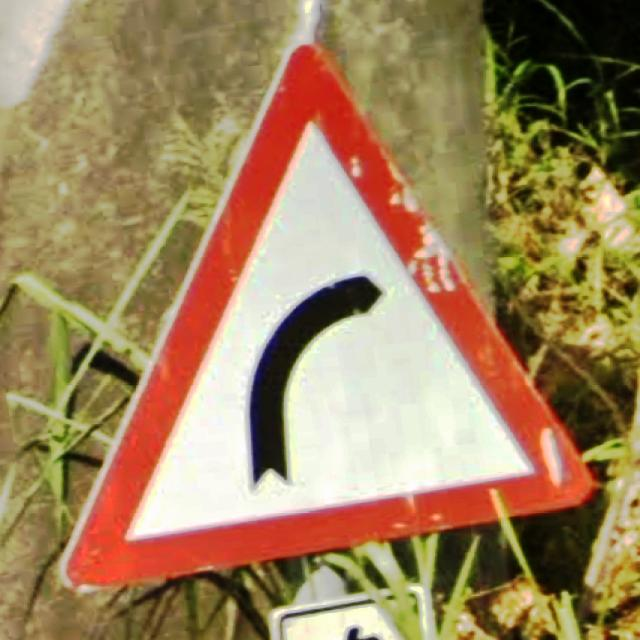rightbend: (63, 43, 594, 593)
